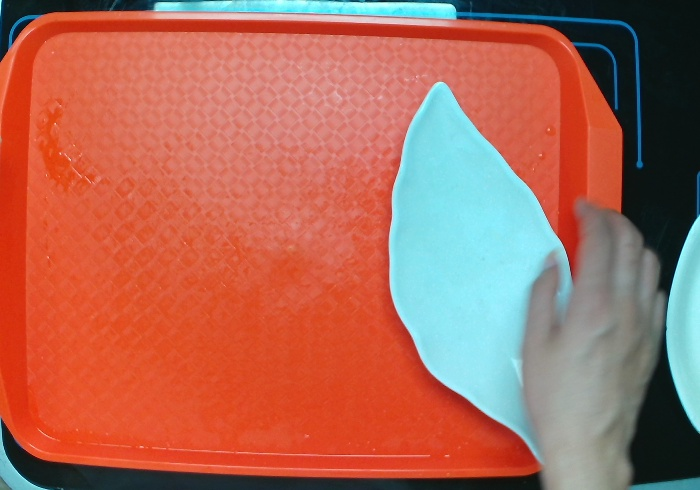RJxy-Shu_Ye_Pan: (374, 72, 584, 467)
